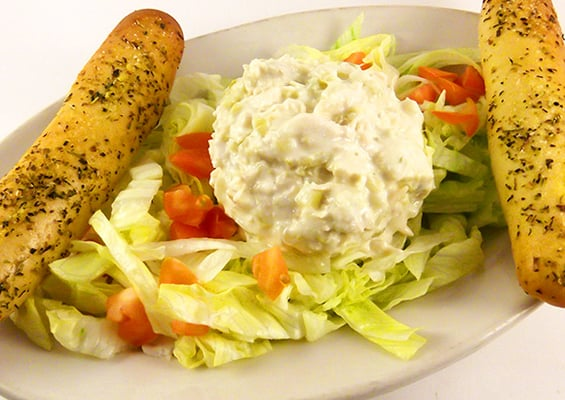pasta: (1, 8, 185, 336)
